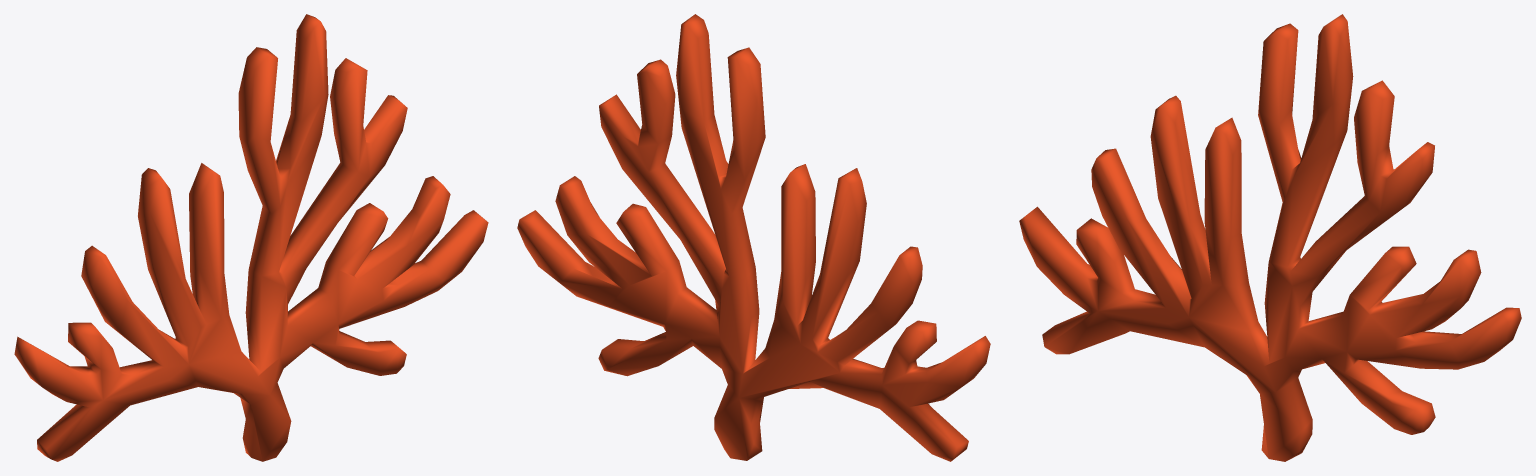
File: Coral.fbx
3 renders of one model, left to right at view 1: azimuth 30°, elevation 25°; view 2: azimuth 150°, elevation 25°; view 3: azimuth 330°, elevation 25°, orthographic. The views are drawn at different scales.
Visible parts, largest first — view 1: coral 1; view 2: coral 1; view 3: coral 1.
Boxes of the visible parts, bbox=[...] form: coral 1: bbox=[14, 14, 488, 461]; coral 1: bbox=[517, 14, 990, 461]; coral 1: bbox=[1019, 14, 1521, 461].
Bounding box in the file's own units: 98.16 × 86.26 × 5.5.
